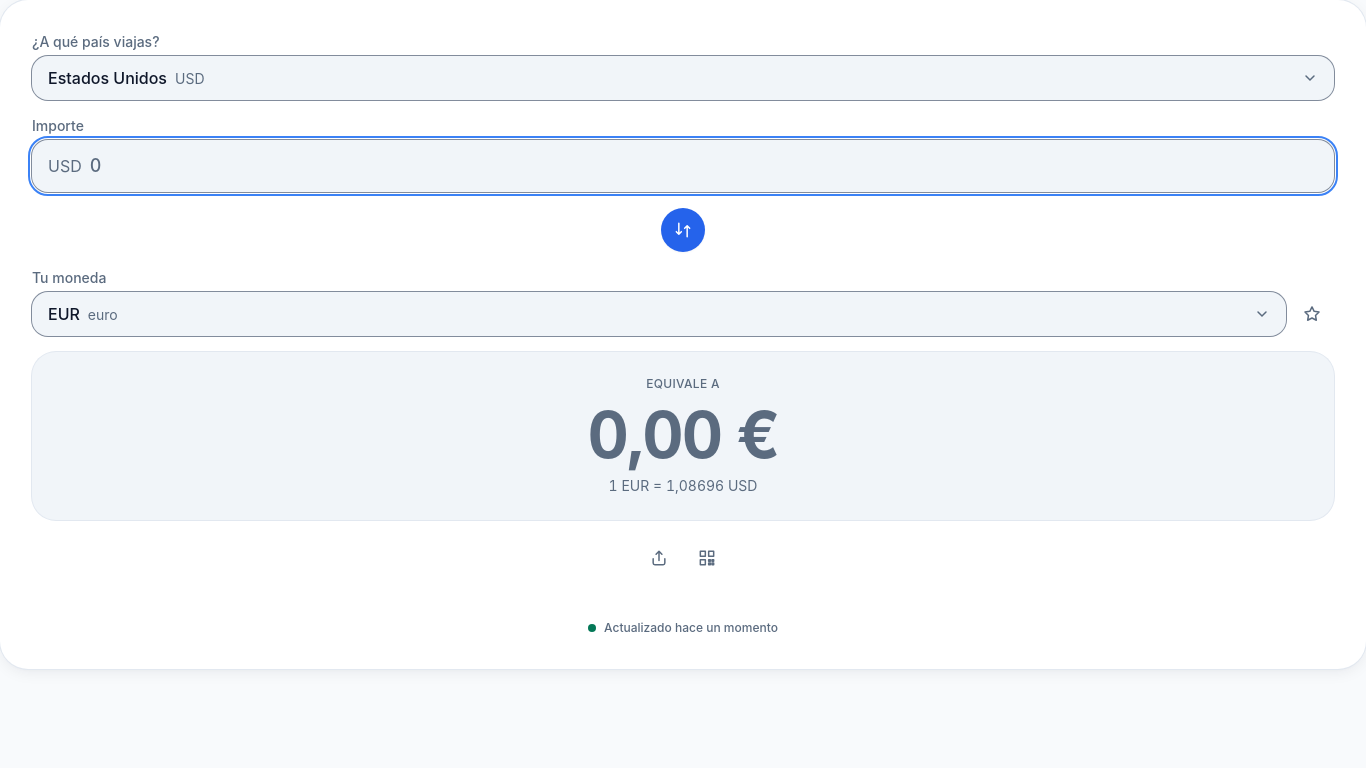
it: Converter — swap › swaps rather than allowing the same currency on both sides (E8)
Click the button named "país viajas": [107, 78] box [32,56,1334,100]
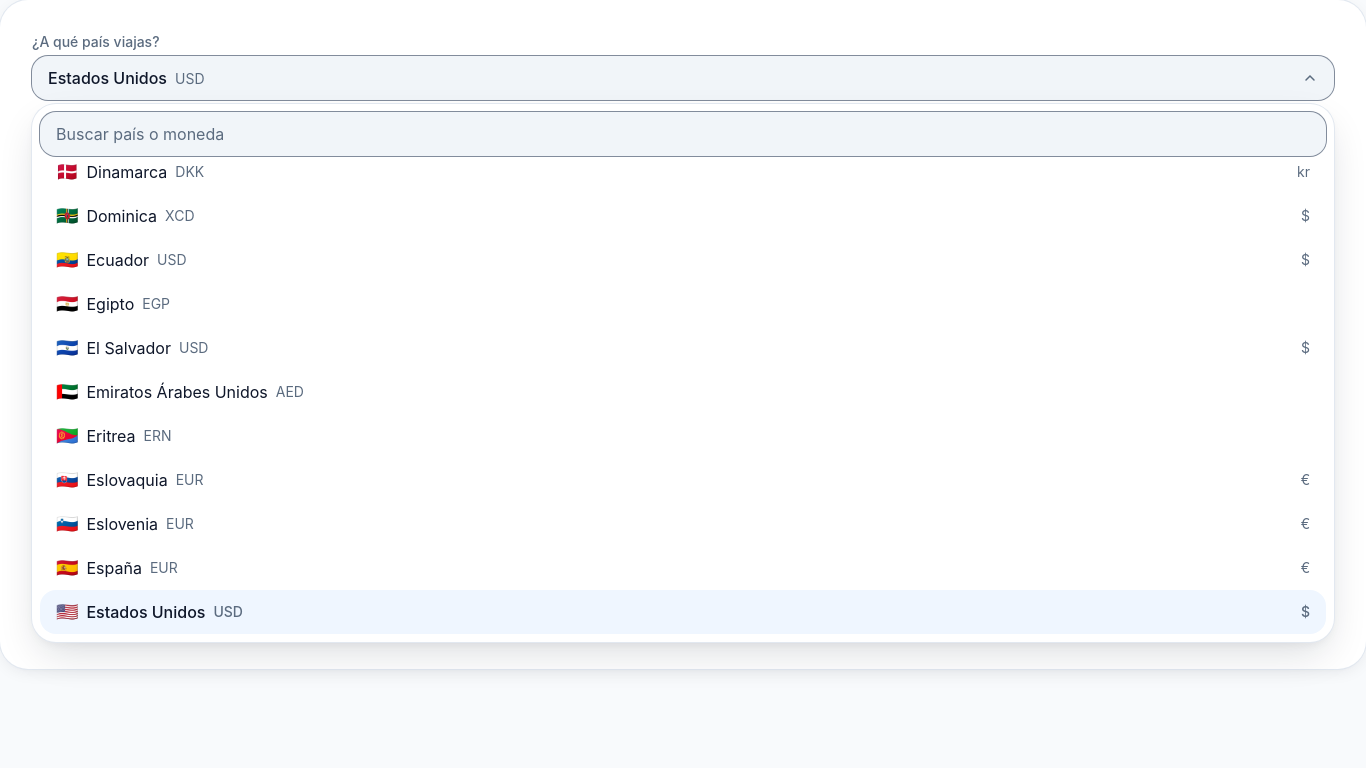
In the dropdown: [683, 134] box [40,112,1326,156], type "España"
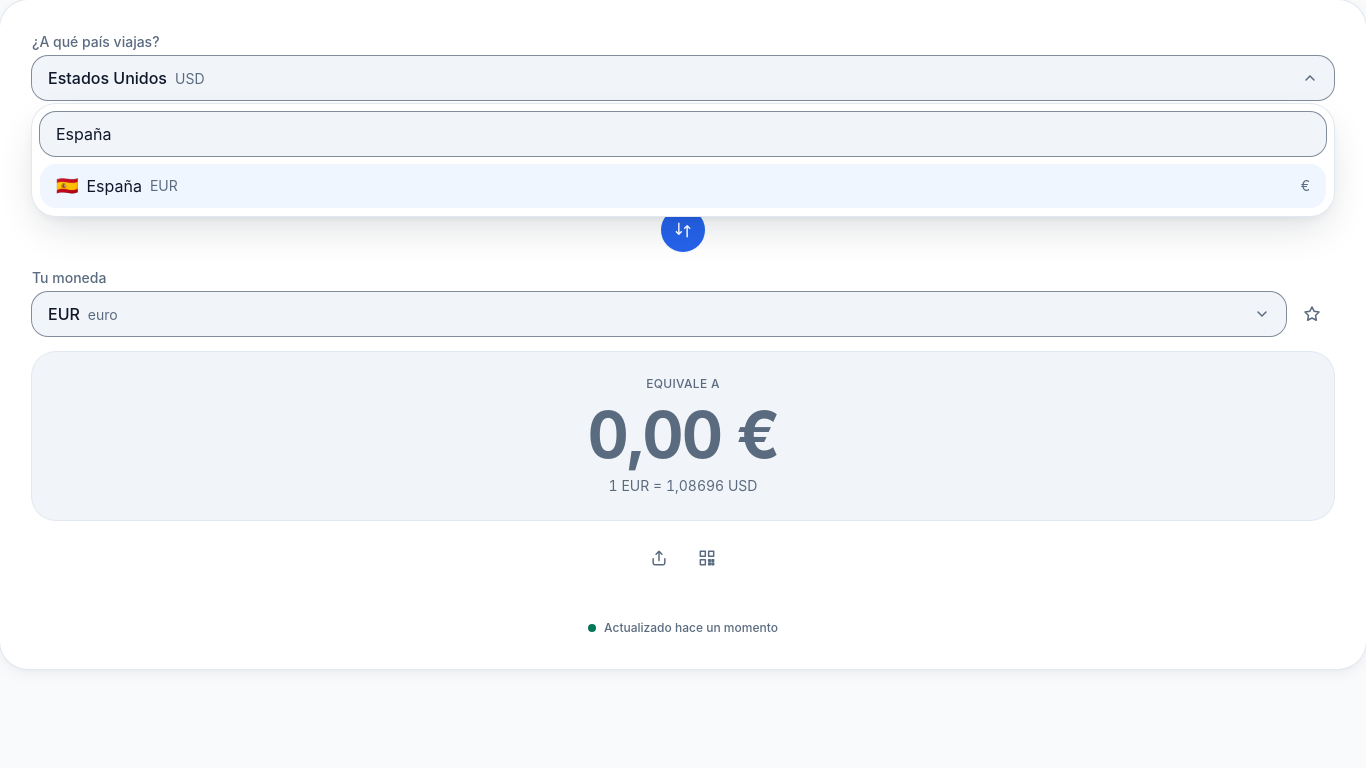
Click the option "🇪🇸 España EUR €": [114, 186] box [40,164,1326,208]
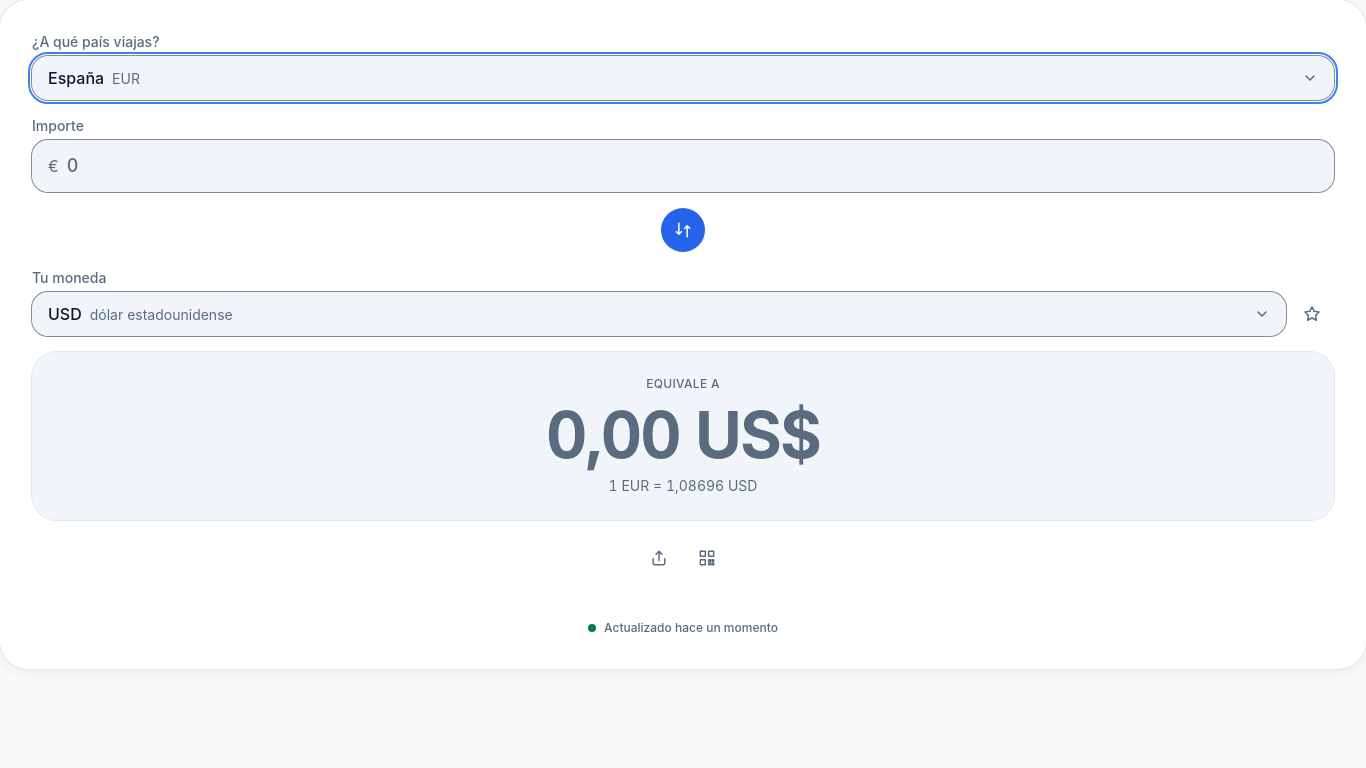
Expected: the button named "Tu moneda" shows "USD", [32,292,1286,336]
